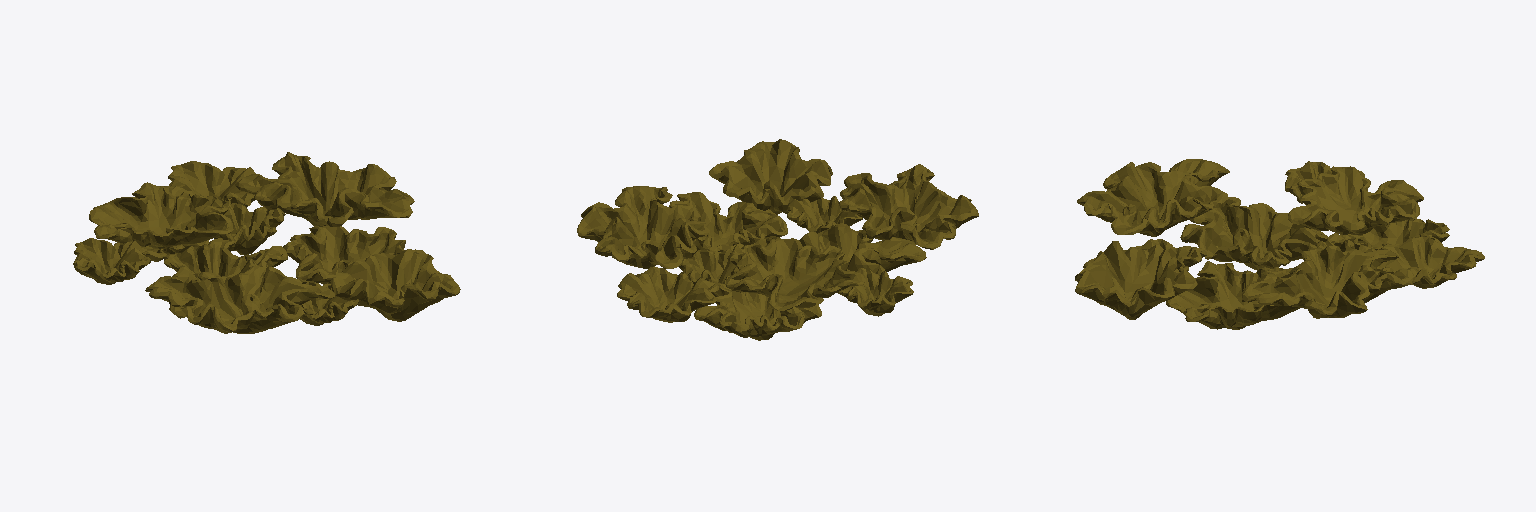
File: Object_LeatherCoral2.obj
3 views of the same model, side by side, from view 1: azimuth 30°, elevation 25°; view 2: azimuth 150°, elevation 25°; view 3: azimuth 270°, elevation 25° (orthographic).
Visible parts, largest first — view 1: LeatherCoral2; view 2: LeatherCoral2; view 3: LeatherCoral2.
Part boxes in pixels (left/top/right/bottom): LeatherCoral2: left=73, top=152, right=460, bottom=333; LeatherCoral2: left=577, top=139, right=978, bottom=340; LeatherCoral2: left=1075, top=159, right=1484, bottom=329.
Bounding box in the file's own units: 3.42 × 0.7854 × 3.76.